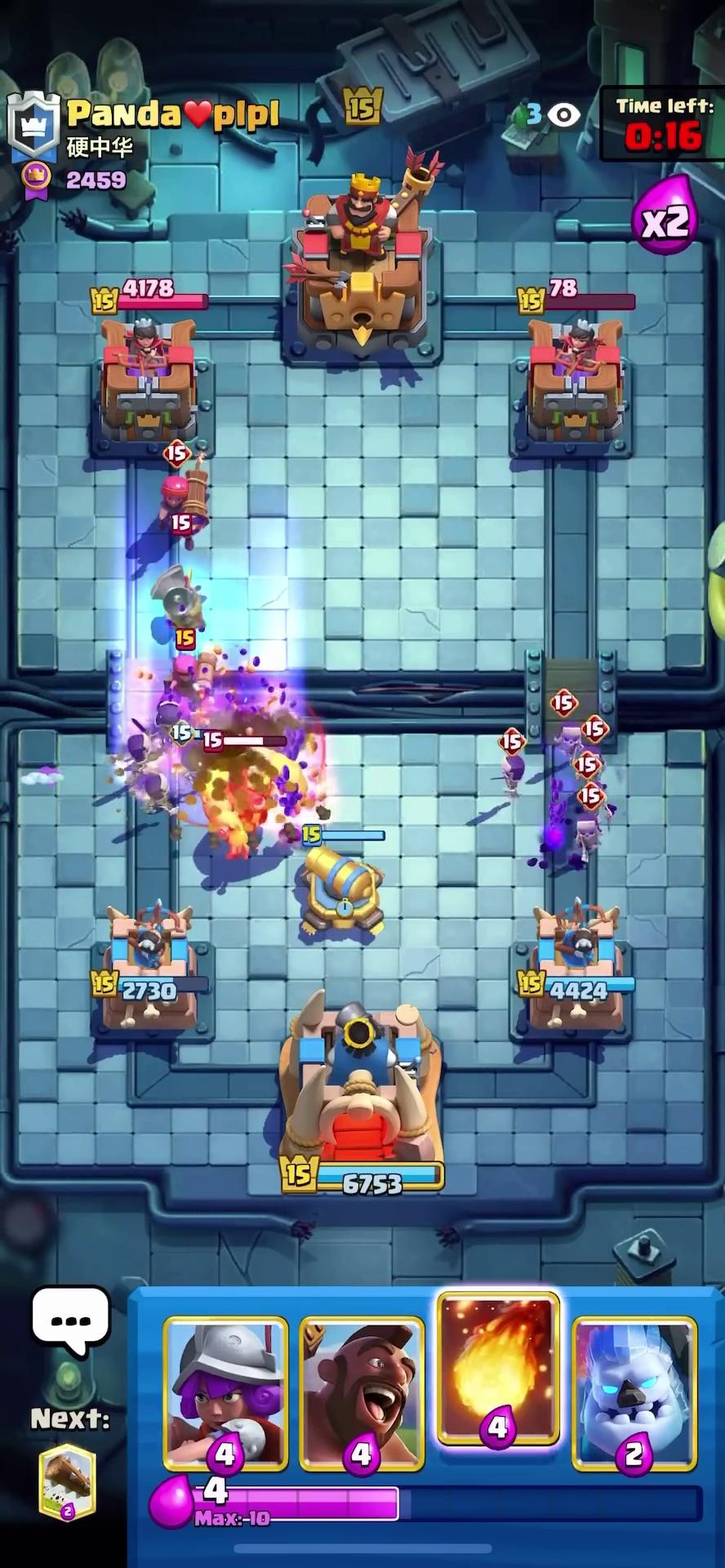cannon: (282, 831, 392, 939)
evo_skeletons: (116, 694, 192, 821)
